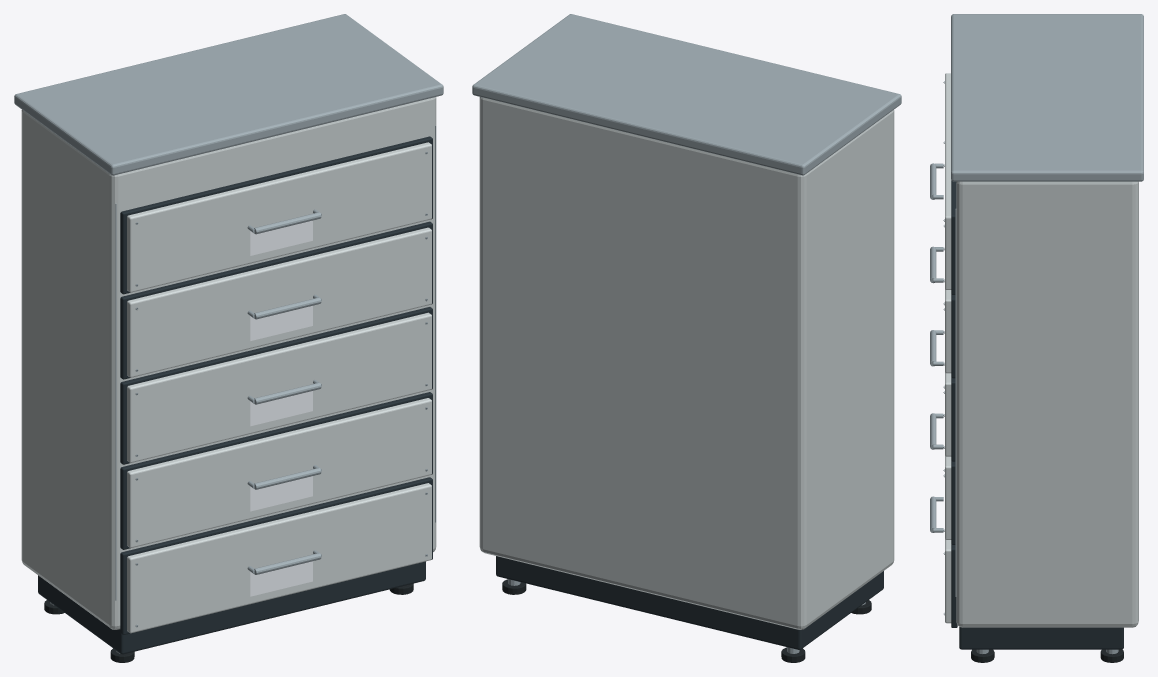
The model's file is SF_MedicationCabinet.fbx.
The picture shows the model from 3 angles, left to right: view 1: azimuth 30°, elevation 25°; view 2: azimuth 150°, elevation 25°; view 3: azimuth 270°, elevation 25°; orthographic projection. The views are drawn at different scales.
Parts seen in each view (by area): view 1: SF_MedicationCabinet; view 2: SF_MedicationCabinet; view 3: SF_MedicationCabinet.
Part boxes in pixels (x1=…): SF_MedicationCabinet: x1=14, y1=14, x2=443, y2=662; SF_MedicationCabinet: x1=472, y1=14, x2=901, y2=662; SF_MedicationCabinet: x1=930, y1=14, x2=1143, y2=662.
Size of the model in its own units: 128 by 187 by 72.65.
